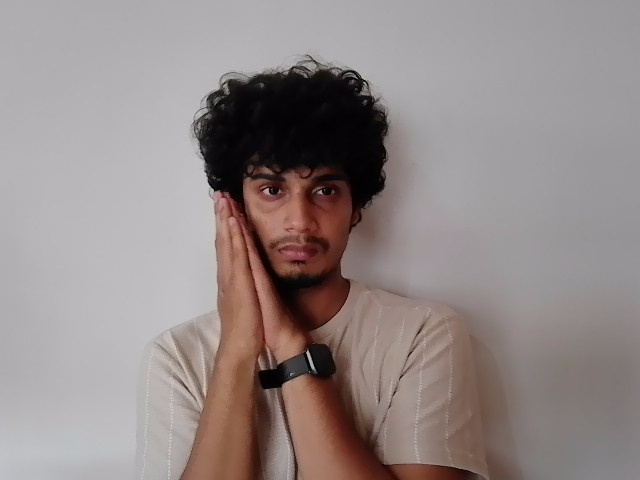sleep: (210, 180, 301, 339)
